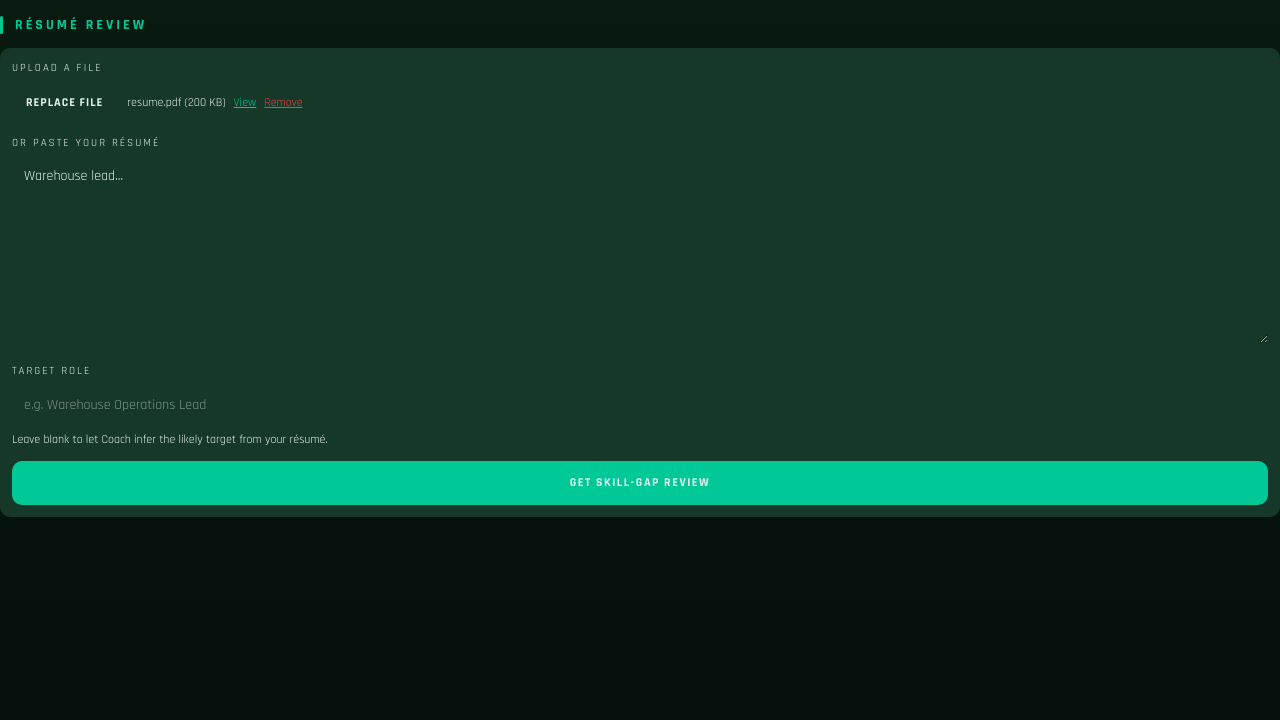
Test case: ResumeReviewCard › v2 — file upload › removes the saved file and clears its metadata when Remove is clicked
The image size is (1280, 720).
Click the button "Remove" at point(283, 102), box [264,95,303,110]
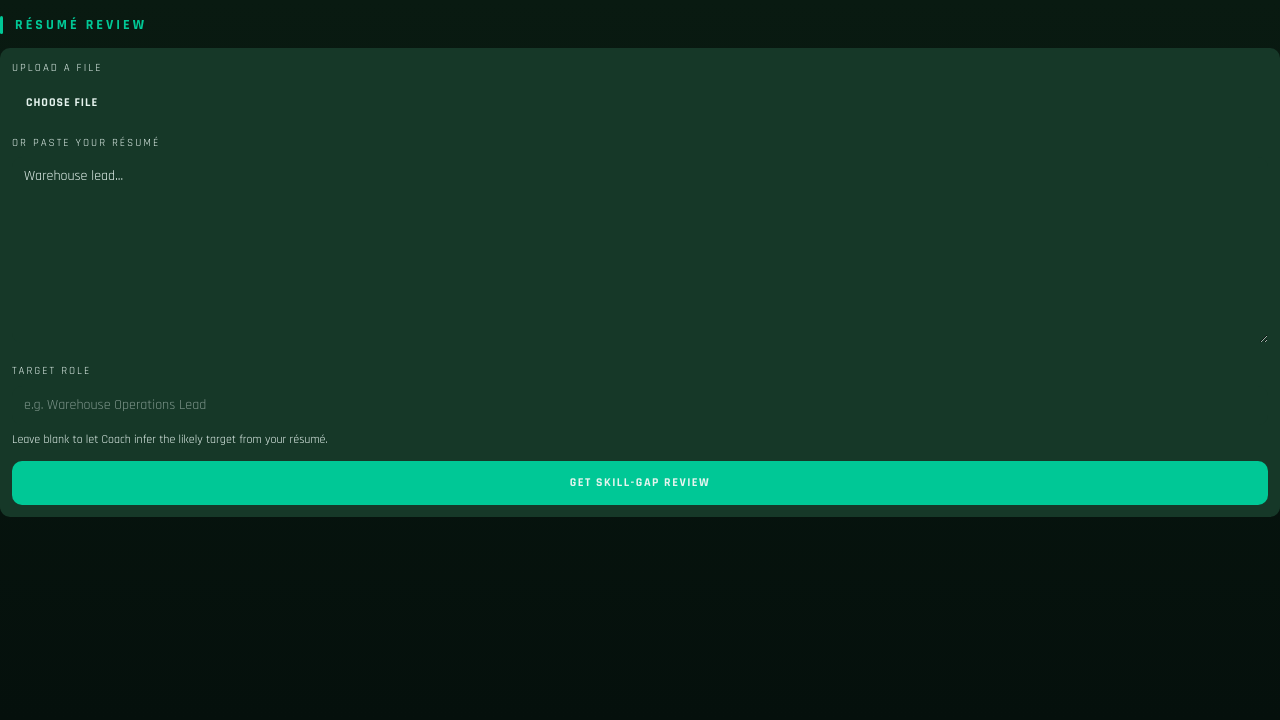
Expected: the text "resume.pdf" is gone
